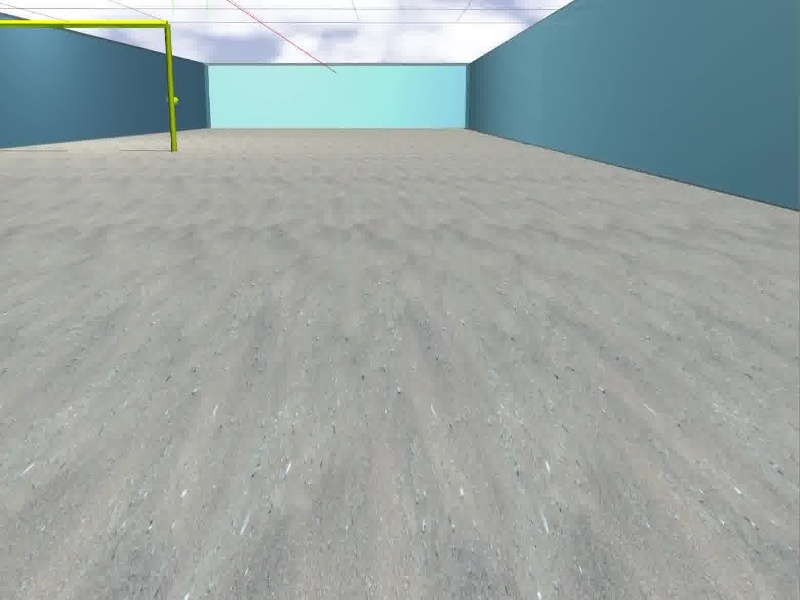gate: (1, 18, 180, 153)
